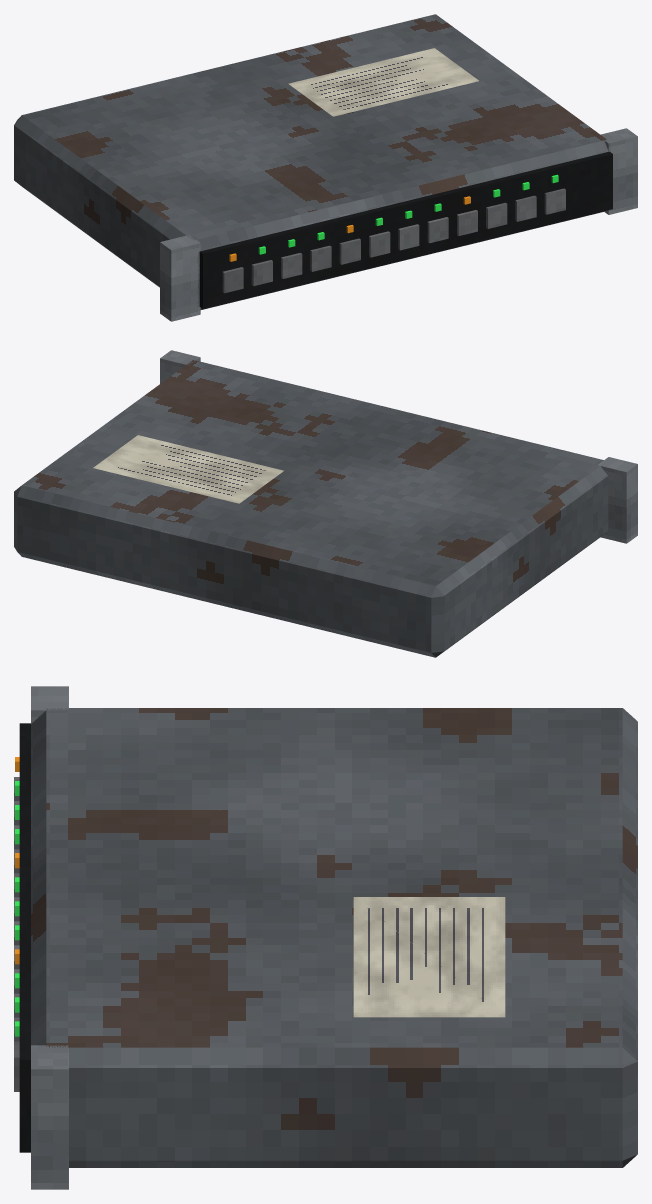
Rendered from Router.fbx.
3 views of the same model, one above another, from view 1: azimuth 30°, elevation 25°; view 2: azimuth 150°, elevation 25°; view 3: azimuth 270°, elevation 25° (orthographic). The views are drawn at different scales.
Visible parts, largest first — view 1: Router; view 2: Router; view 3: Router.
Boxes of the visible parts, <box> form: Router: <box>14,14,637,321</box>; Router: <box>14,350,637,657</box>; Router: <box>14,686,637,1189</box>.
Size of the model in its own units: 0.478 by 0.0705 by 0.329.
